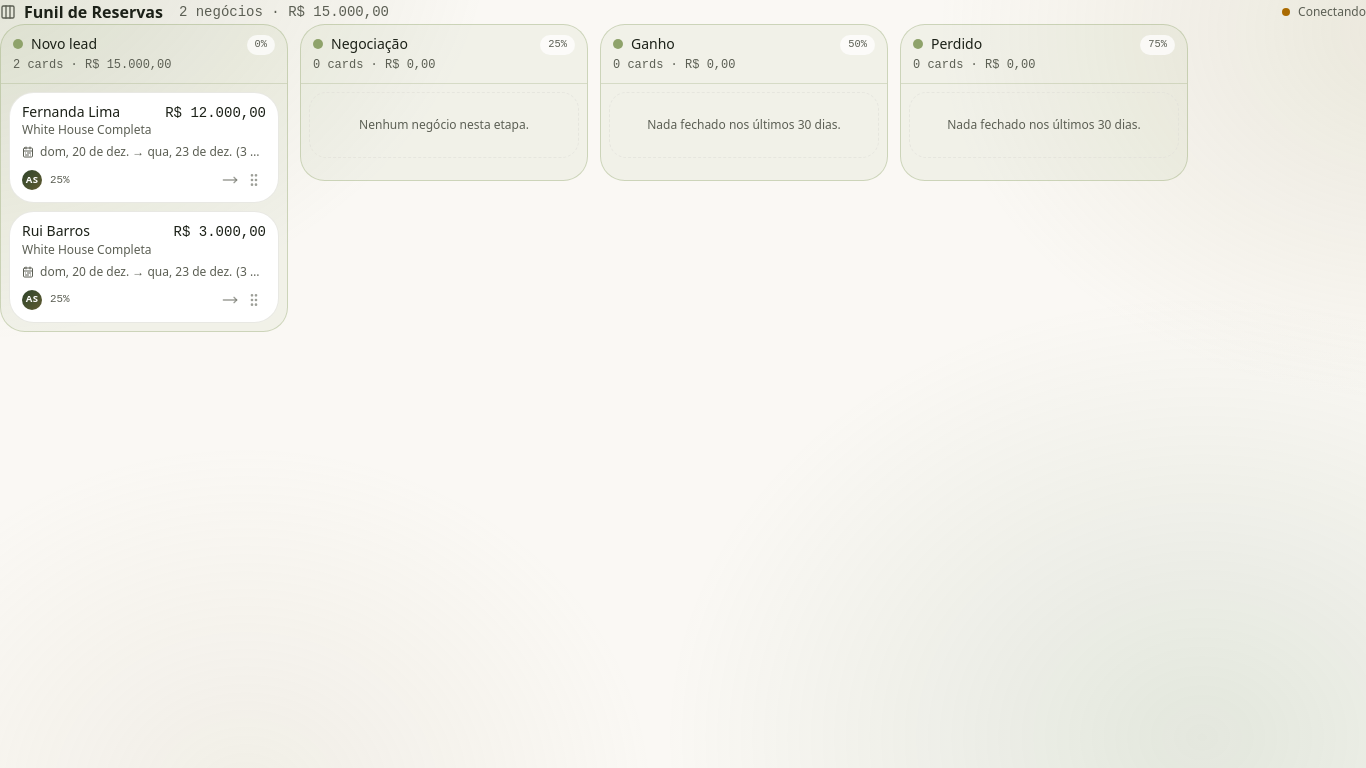
Test: PipelineKanban — colunas terminais › não move o card para Ganho: abre o diálogo, porque ganhar cria reserva
The image size is (1366, 768).
Click the button named "Mover Fernanda Lima para outra etapa": (230, 180) [218,168,242,192]
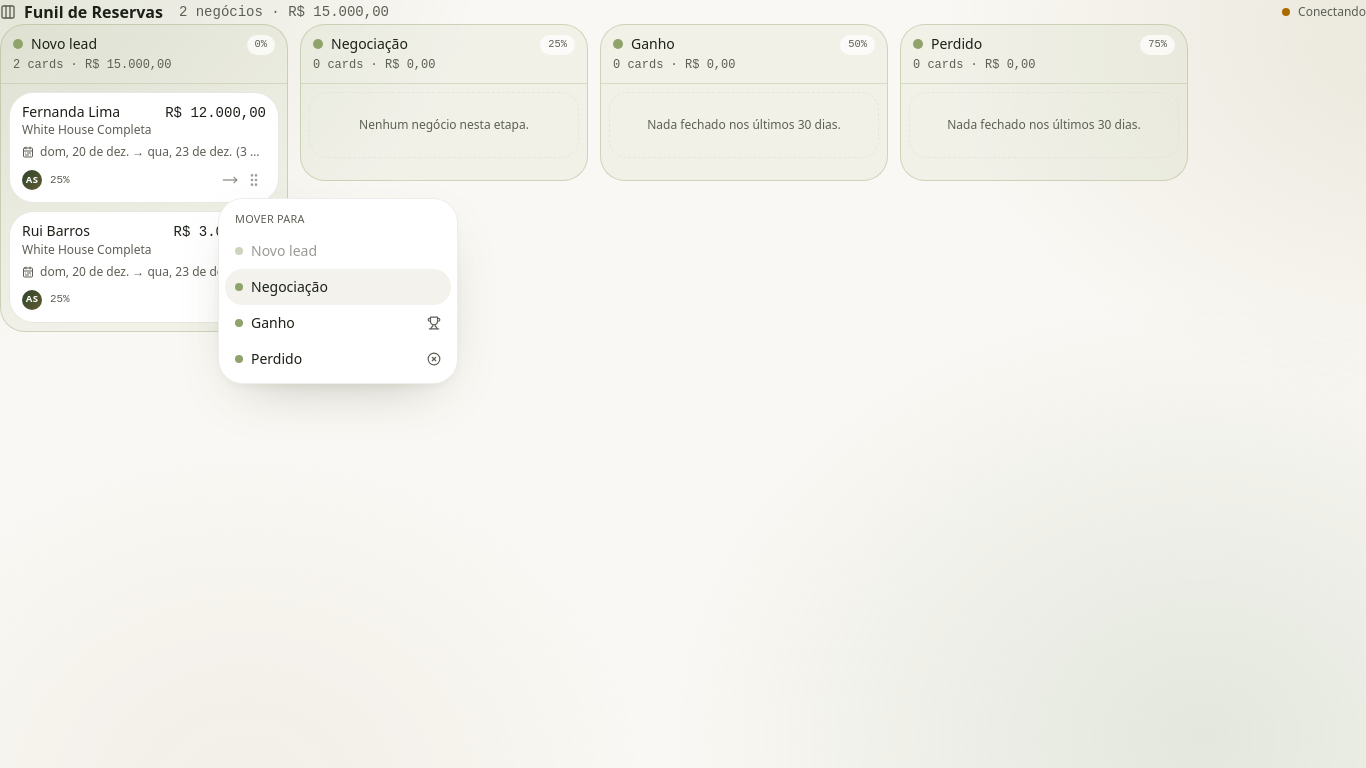
Click the menu item "Ganho": (273, 323) [235,313,441,332]
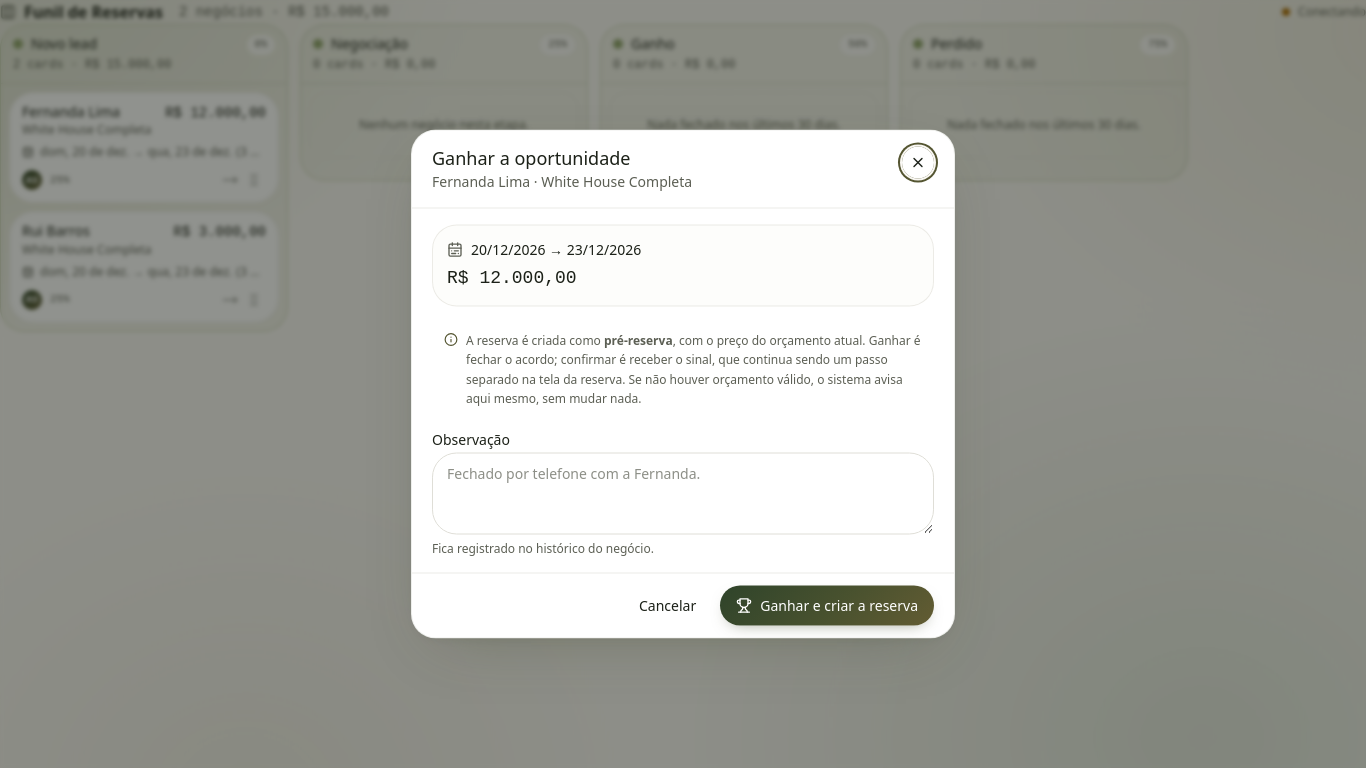
Check: the dialog is shown, box [411,130,955,638]
Check: the heading "Ganhar a oportunidade" is shown, box [432,146,630,170]
